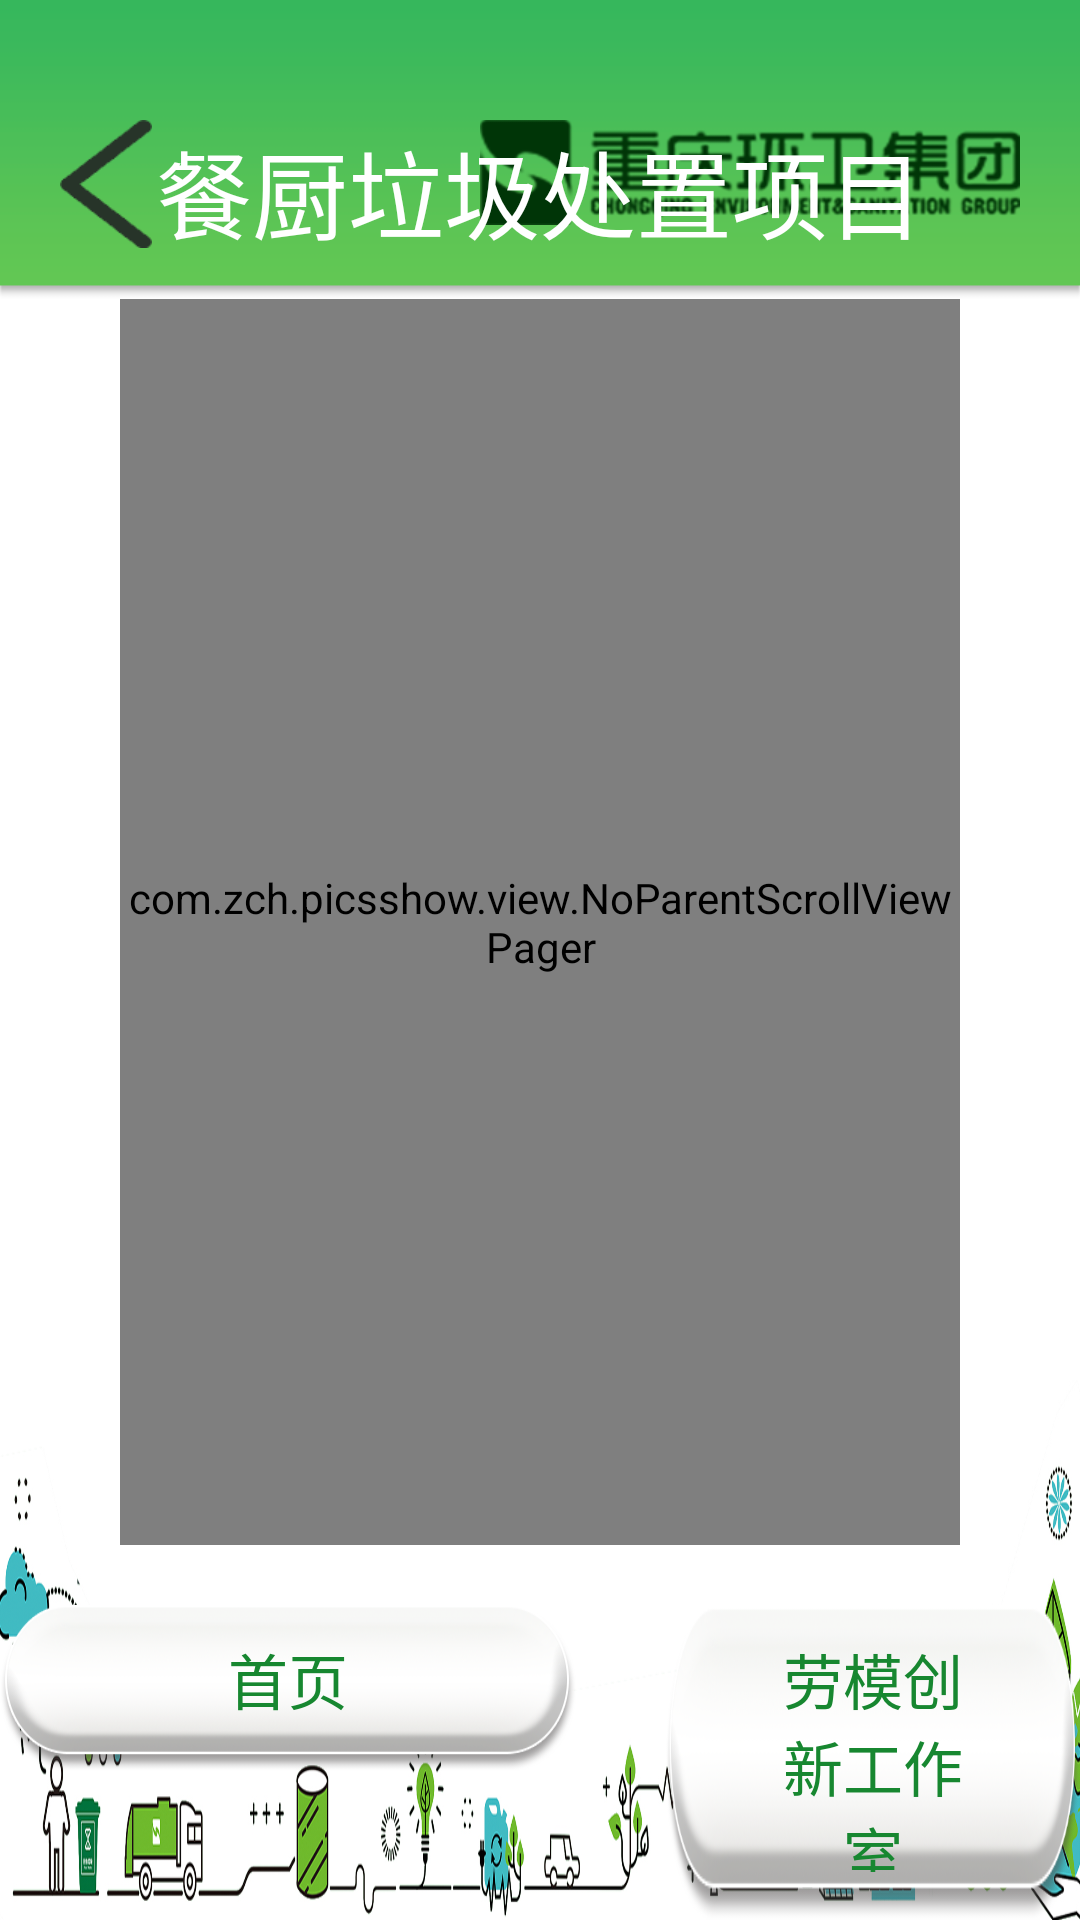

Where to tap for icons on this 1080x1920 app screen, as (x=x, y=y):
back: (x=106, y=184)
